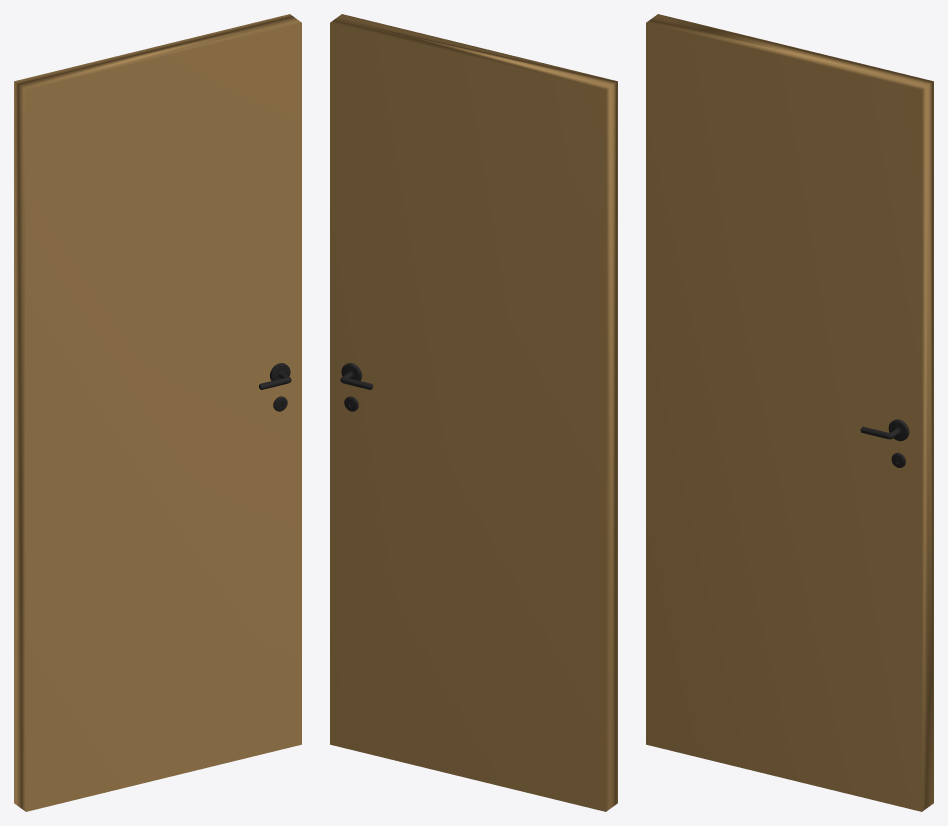
Rendered from 11f8cde8-177d-47be-a14d-411a465c678e.glb.
The picture shows the model from 3 angles, left to right: view 1: azimuth 30°, elevation 25°; view 2: azimuth 150°, elevation 25°; view 3: azimuth 330°, elevation 25°; orthographic projection.
Parts seen in each view (by area): view 1: Door.024; view 2: Door.024; view 3: Door.024.
Part boxes in pixels (x1,y1,x2,y2): Door.024: (14,14,301,811); Door.024: (330,14,617,811); Door.024: (646,14,933,811).
Size of what is drawn, in the model's own units: 0.8628 by 2.16 by 0.1816.
Materials: 2 (2 with a texture image).
